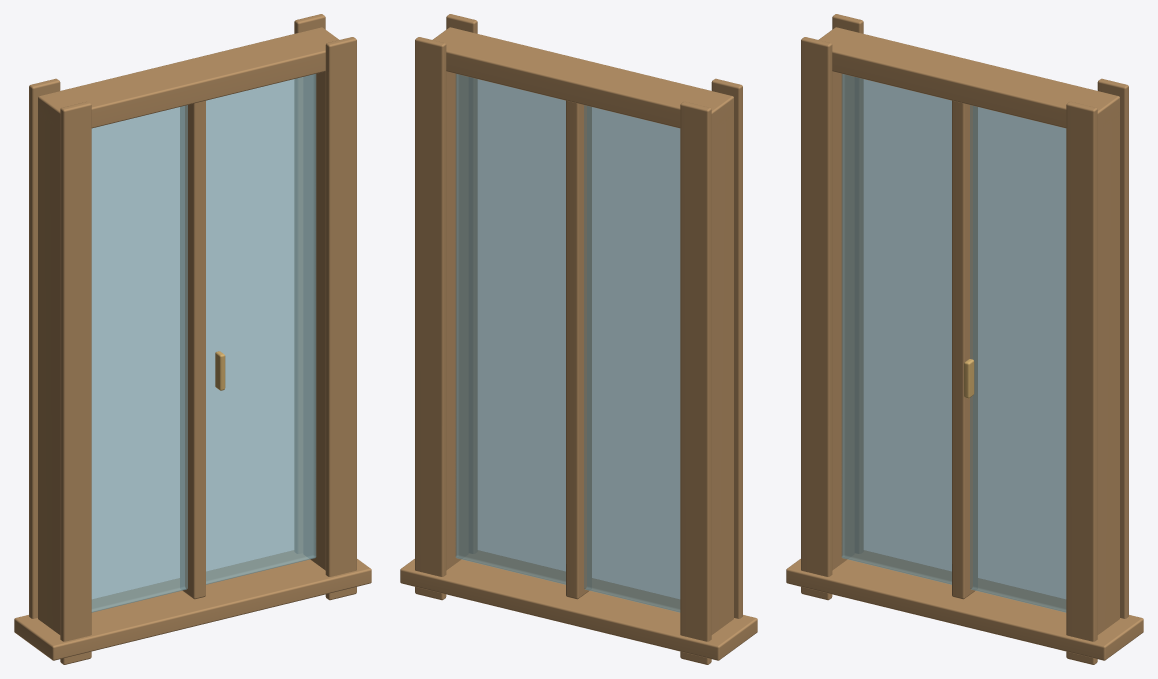
The model's file is window-tall.glb.
The picture shows the model from 3 angles, left to right: view 1: azimuth 30°, elevation 25°; view 2: azimuth 150°, elevation 25°; view 3: azimuth 330°, elevation 25°; orthographic projection.
Visible parts, largest first — view 1: Glazing.002, Architrave.024, Architrave.026, Sill.002, Mullion.002, Jamb.012, Lintel.006, Jamb.013, Architrave.025, Architrave.027; view 2: Glazing.002, Architrave.025, Architrave.027, Sill.002, Mullion.002, Jamb.012, Lintel.006, Jamb.013, Architrave.024, Architrave.026; view 3: Glazing.002, Architrave.026, Architrave.024, Sill.002, Mullion.002, Jamb.013, Lintel.006, Jamb.012, Architrave.027, Architrave.025.
Boxes of the visible parts, box(x1,y1,x2,y2) form: Glazing.002: box(91, 74, 316, 612); Architrave.024: box(60, 101, 91, 664); Architrave.026: box(325, 37, 356, 600); Sill.002: box(14, 550, 371, 660); Mullion.002: box(180, 100, 205, 599); Jamb.012: box(38, 93, 70, 634); Lintel.006: box(38, 27, 339, 128); Jamb.013: box(303, 71, 325, 570); Architrave.025: box(29, 78, 60, 618); Architrave.027: box(294, 14, 325, 553); Glazing.002: box(455, 74, 680, 612); Architrave.025: box(680, 101, 711, 664); Architrave.027: box(415, 37, 446, 600); Sill.002: box(400, 550, 757, 660); Mullion.002: box(566, 100, 591, 599); Jamb.012: box(702, 93, 733, 634); Lintel.006: box(432, 27, 733, 128); Jamb.013: box(446, 71, 468, 570); Architrave.024: box(711, 78, 742, 618); Architrave.026: box(446, 14, 477, 553); Glazing.002: box(841, 74, 1066, 612); Architrave.026: box(1066, 101, 1097, 664); Architrave.024: box(801, 37, 832, 600); Sill.002: box(786, 550, 1143, 660); Mullion.002: box(952, 100, 977, 599); Jamb.013: box(1086, 93, 1119, 634); Lintel.006: box(818, 27, 1119, 128); Jamb.012: box(832, 71, 854, 570); Architrave.027: box(1097, 78, 1128, 618); Architrave.025: box(832, 14, 863, 553).
Size of the model in its own units: 1.12 by 1.86 by 0.24.
